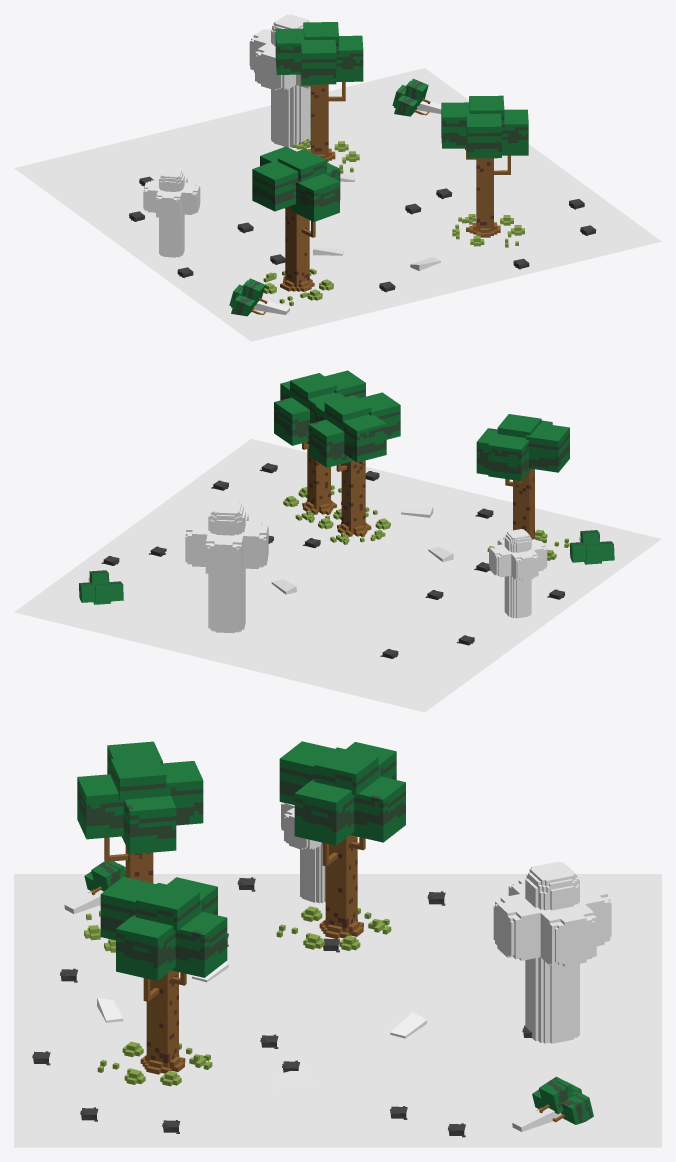
The model's file is chunk_center.gltf.
The picture shows the model from 3 angles, top to bottom: view 1: azimuth 30°, elevation 25°; view 2: azimuth 150°, elevation 25°; view 3: azimuth 270°, elevation 25°; orthographic projection. The views are drawn at different scales.
Visible parts, largest first — view 1: C, TREE 02.001, TREE 02.009, TREE 02.006, Object_3.001, Object_3.006, pond, Trunt_top.001, Trunt_top.005; view 2: C, TREE 02.006, Object_3.001, TREE 02.001, TREE 02.009, Object_3.006, Trunt_top.005, Trunt_top.001, pond; view 3: C, TREE 02.009, TREE 02.006, Object_3.001, TREE 02.001, pond, Trunt_top.005, Object_3.006, Trunt_top.001.
Part boxes in pixels (bbox=[...]): C: bbox=[14, 68, 661, 341]; TREE 02.001: bbox=[252, 146, 340, 305]; TREE 02.009: bbox=[441, 95, 528, 247]; TREE 02.006: bbox=[275, 22, 363, 173]; Object_3.001: bbox=[249, 14, 310, 147]; Object_3.006: bbox=[143, 169, 200, 257]; pond: bbox=[420, 151, 518, 193]; Trunt_top.001: bbox=[229, 278, 289, 316]; Trunt_top.005: bbox=[392, 78, 441, 116]; C: bbox=[14, 438, 661, 712]; TREE 02.006: bbox=[308, 392, 400, 544]; Object_3.001: bbox=[185, 501, 268, 633]; TREE 02.001: bbox=[476, 414, 569, 560]; TREE 02.009: bbox=[274, 370, 365, 522]; Object_3.006: bbox=[489, 529, 547, 618]; Trunt_top.005: bbox=[79, 570, 123, 604]; Trunt_top.001: bbox=[569, 530, 614, 564]; pond: bbox=[152, 522, 187, 558]; C: bbox=[14, 874, 661, 1147]; TREE 02.009: bbox=[97, 876, 227, 1086]; TREE 02.006: bbox=[276, 741, 405, 950]; Object_3.001: bbox=[493, 861, 611, 1043]; TREE 02.001: bbox=[77, 741, 203, 952]; pond: bbox=[268, 1067, 398, 1124]; Trunt_top.005: bbox=[512, 1076, 593, 1131]; Object_3.006: bbox=[281, 802, 325, 903]; Trunt_top.001: bbox=[64, 861, 125, 913].
Size of what is drawn, in the model's own units: 221 by 98.32 by 221.
12 materials, 3 textured.
